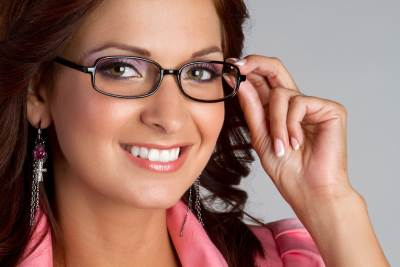glasses: (51, 34, 247, 111)
